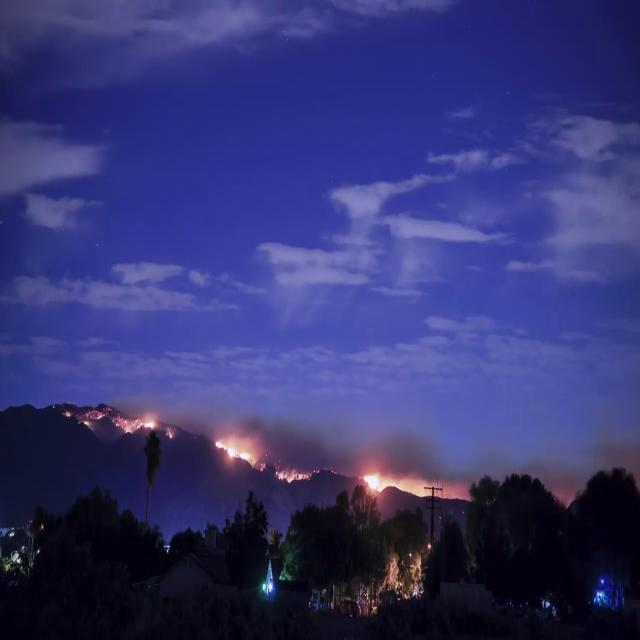Fire: (64, 397, 112, 434), (363, 472, 428, 499), (216, 437, 263, 471), (115, 408, 159, 436), (276, 468, 312, 483), (164, 422, 174, 438)
Smoke: (116, 368, 634, 500)
